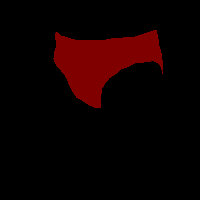mutande: (53, 29, 163, 108)
